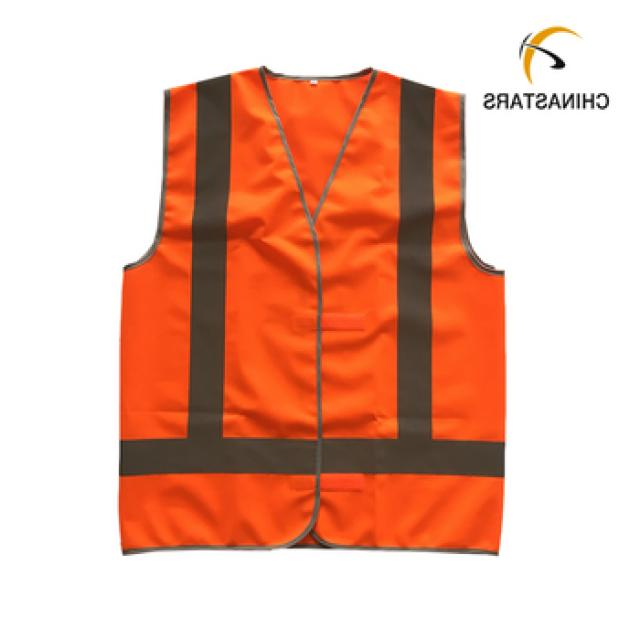Reflective-Jacket: (99, 46, 514, 572)
